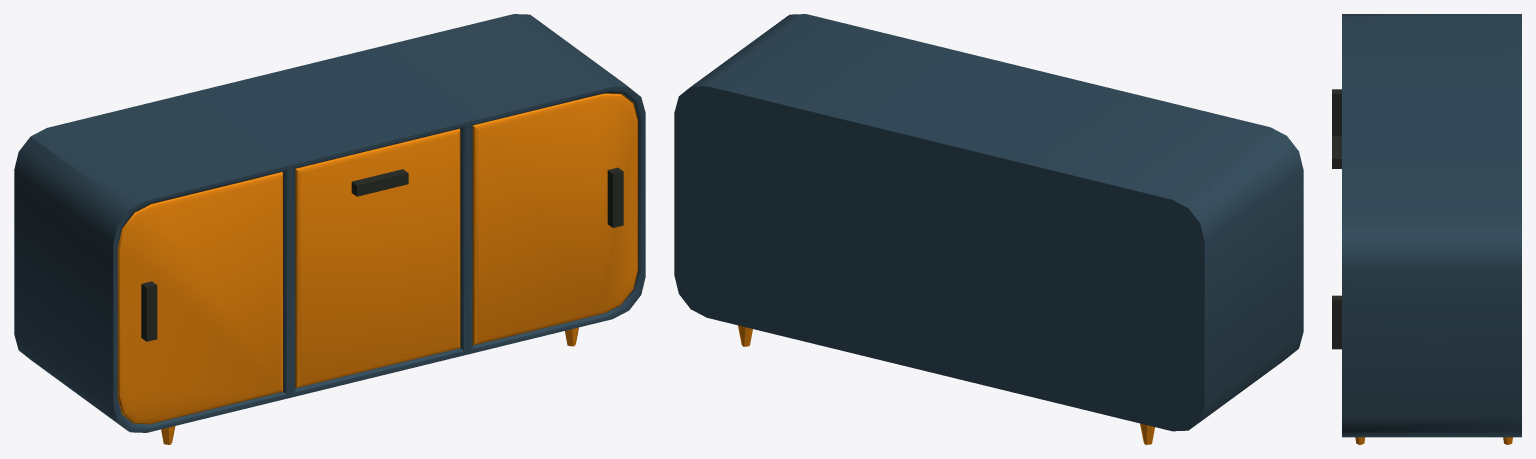
The model's file is TV unit.fbx.
The picture shows the model from 3 angles, left to right: view 1: azimuth 30°, elevation 25°; view 2: azimuth 150°, elevation 25°; view 3: azimuth 270°, elevation 25°; orthographic projection. The views are drawn at different scales.
Parts seen in each view (by area): view 1: Cube.015; view 2: Cube.015; view 3: Cube.015.
Boxes of the visible parts, box(x1,y1,x2,y2) form: Cube.015: box(14, 14, 645, 444); Cube.015: box(674, 14, 1303, 444); Cube.015: box(1332, 14, 1521, 444).
Bounding box in the file's own units: 250 × 116 × 85.15.
1 material, 1 textured.
